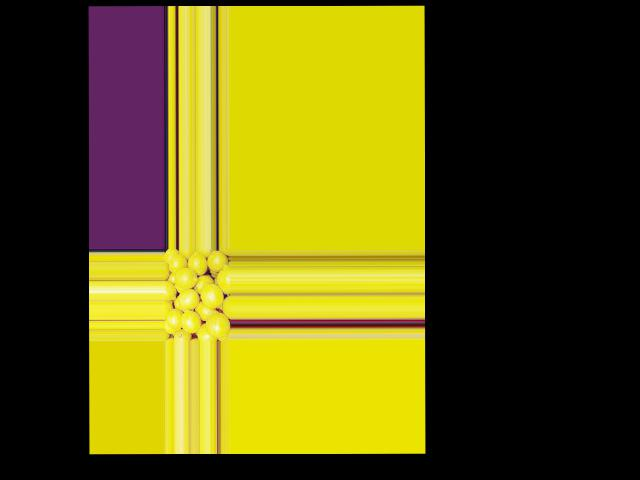lemon: (217, 262, 231, 293)
